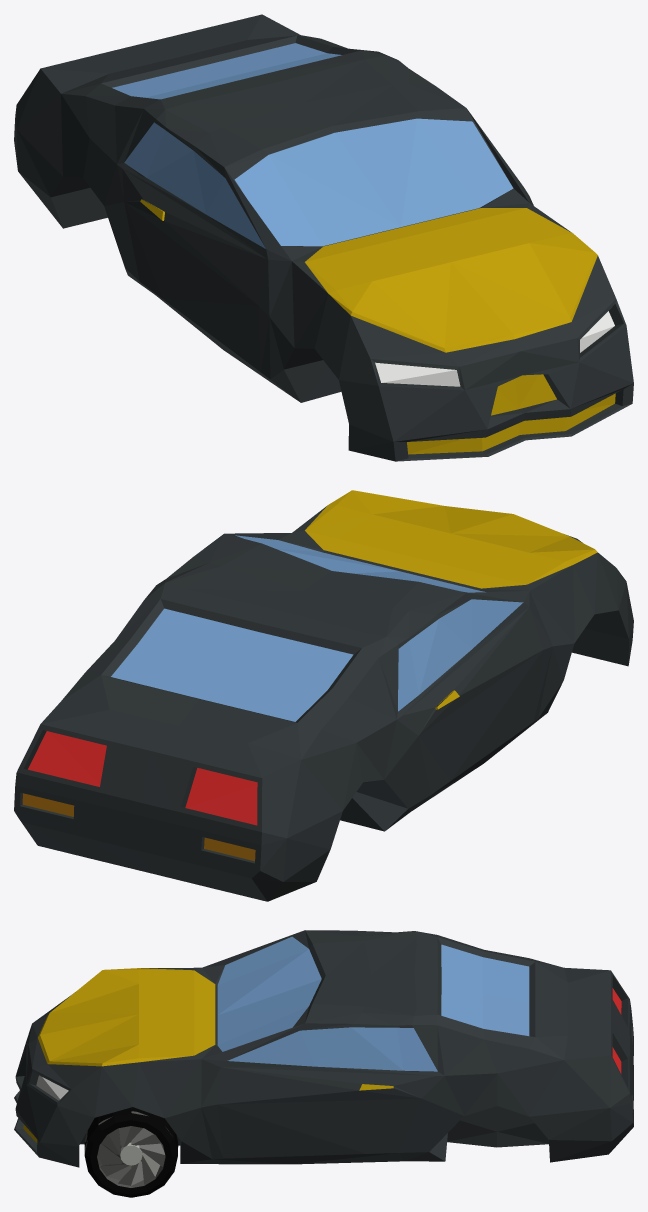
Rendered from car.fbx.
3 views of the same model, one above another, from view 1: azimuth 30°, elevation 25°; view 2: azimuth 150°, elevation 25°; view 3: azimuth 270°, elevation 25° (orthographic). The views are drawn at different scales.
Parts seen in each view (by area): view 1: Cube; view 2: Cube; view 3: Cube, Cylinder.
Part boxes in pixels (<box>): Cube: <box>14,14,633,461</box>; Cube: <box>14,490,633,901</box>; Cube: <box>14,930,633,1167</box>; Cylinder: <box>84,1107,178,1197</box>.
Bounding box in the file's own units: 561 × 388 × 1283.
1 material, 1 textured.
